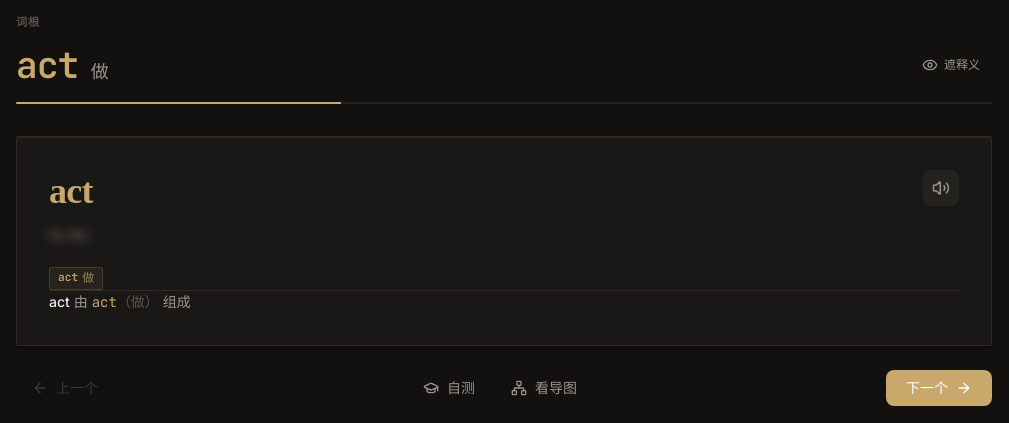
Test: RootSession › 翻面按钮在词卡/导图两面间切换，未就绪时背面显示加载占位
Click the button "看导图" at [544, 388], box x1=495 y1=370 x2=593 y2=406
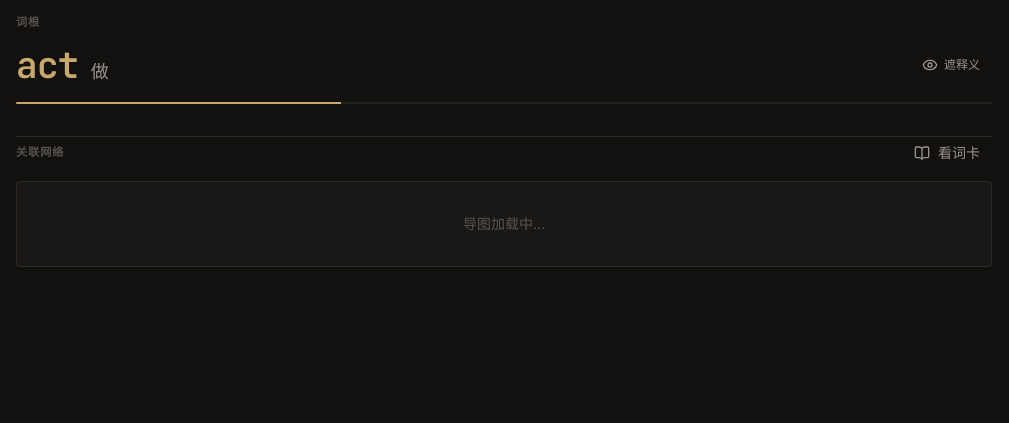
Check: the text "导图加载中…" is shown, box x1=16 y1=181 x2=992 y2=267
Check: the button "看导图" is gone
Click the button "看词卡" at [947, 153], box x1=902 y1=137 x2=992 y2=169
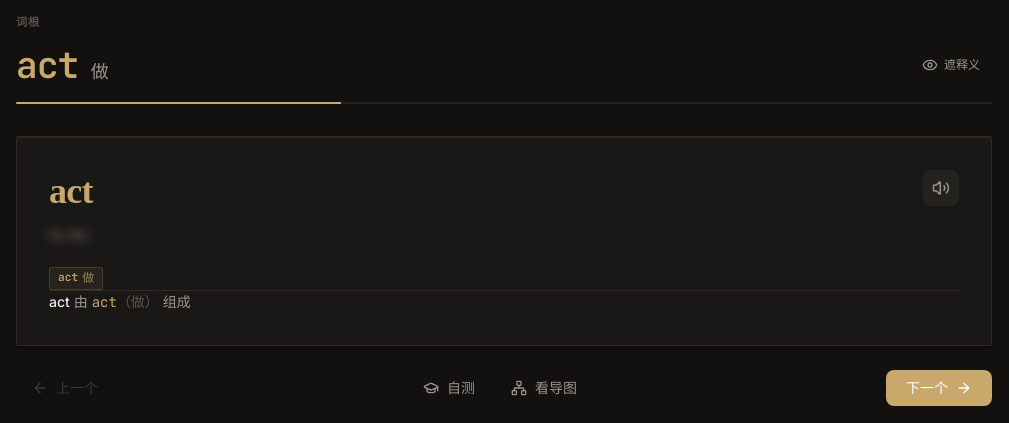
Check: the button "看导图" is shown, box x1=495 y1=370 x2=593 y2=406
